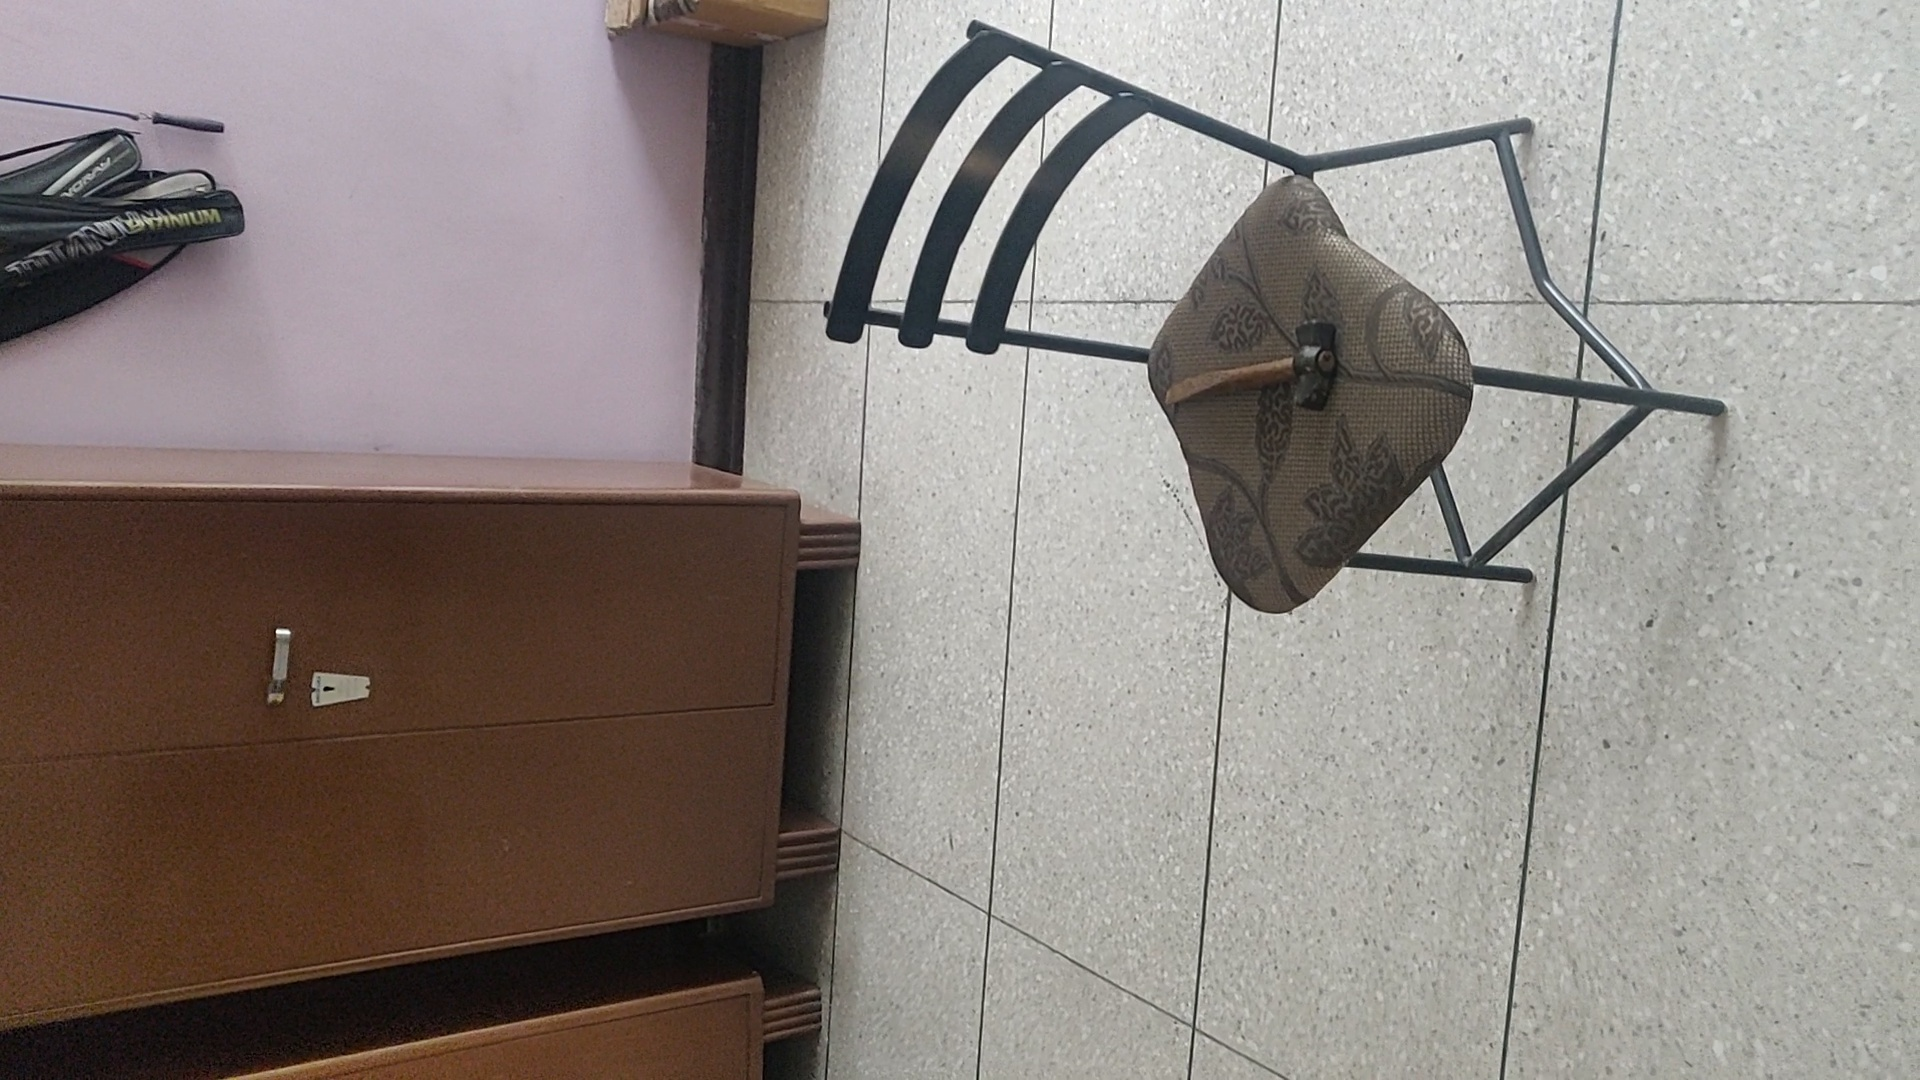hammer: (1164, 316, 1341, 419)
